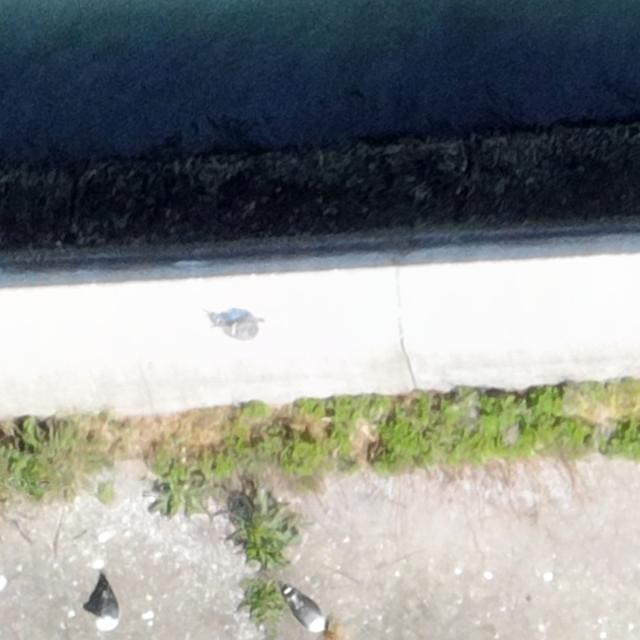umineko: (216, 316, 270, 341), (96, 582, 123, 631), (294, 598, 326, 632)
